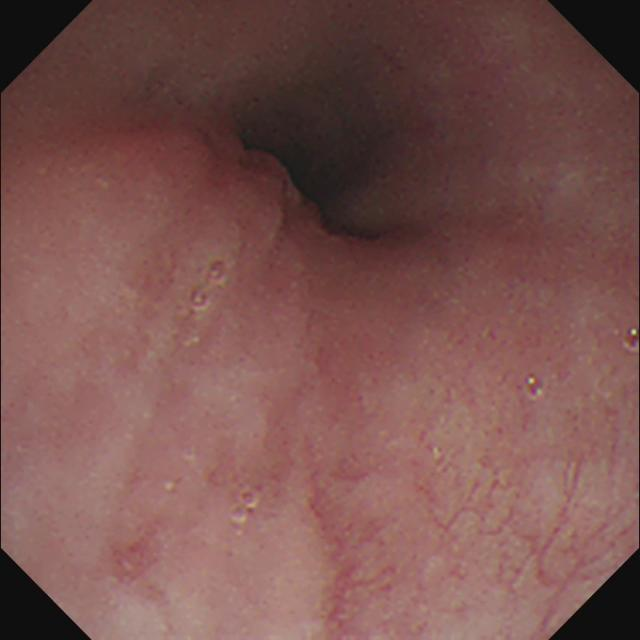A: (310, 475, 396, 640), (111, 523, 168, 585)
E: (244, 106, 389, 244)
T: (231, 491, 260, 523), (524, 376, 545, 401), (622, 327, 640, 354)
